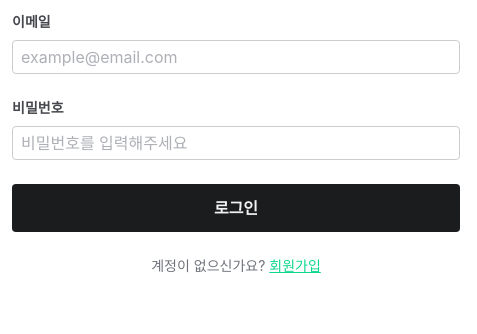
SigninForm - Business Logic › Error Handling › shows generic error message when error response has no message
The width and height of the screenshot is (477, 334).
Type "test@test.com" into the field labelled "이메일" at (236, 57), box [12,40,460,74]
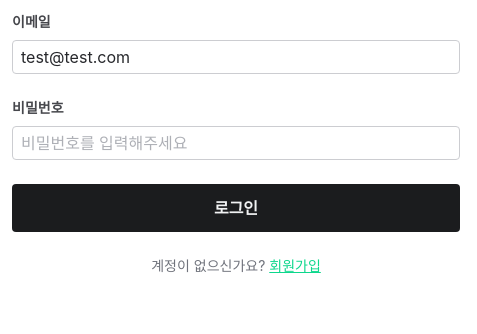
Type "password123" into the password field labelled "비밀번호" at (236, 143), box [12,126,460,160]
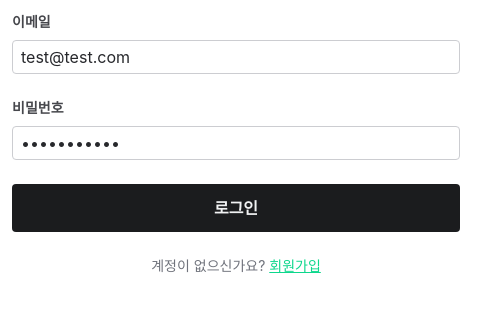
Click the button "로그인" at (236, 208), box [12,184,460,232]
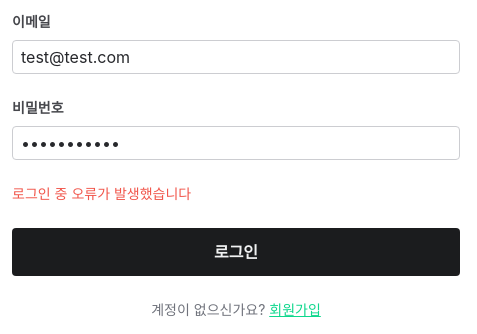
Now the text "로그인 중 오류가 발생했습니다" is shown, box [12,185,191,202]
